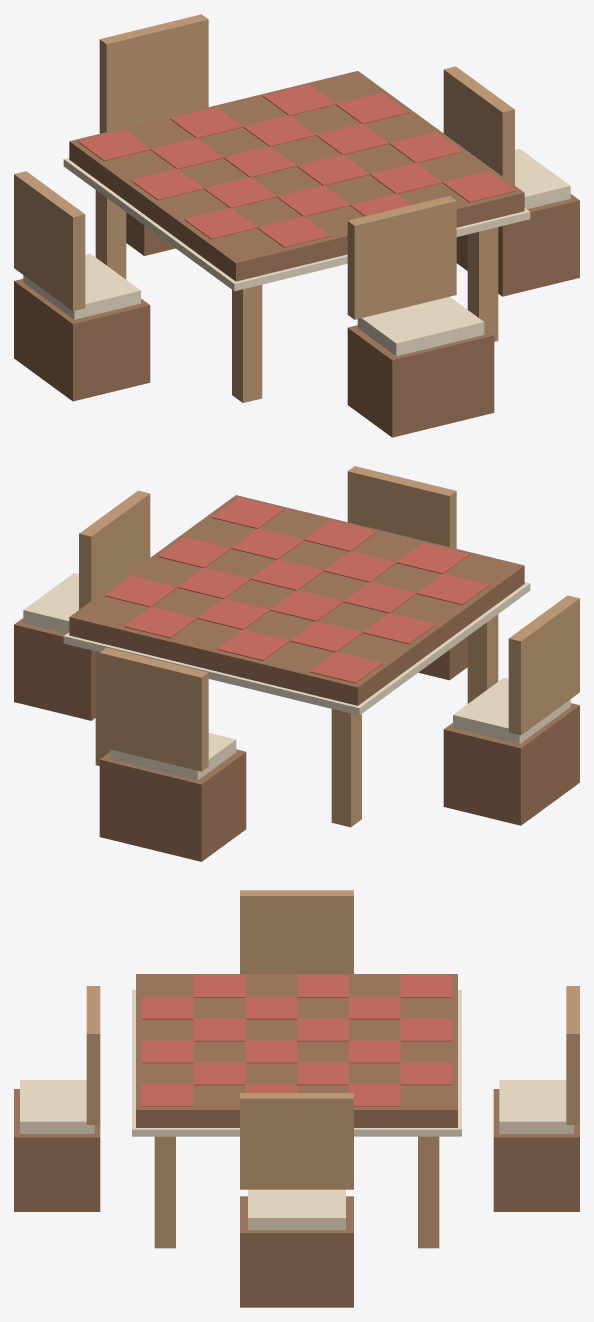
The model's file is dining-set-gingham.glb.
The picture shows the model from 3 angles, top to bottom: view 1: azimuth 30°, elevation 25°; view 2: azimuth 150°, elevation 25°; view 3: azimuth 270°, elevation 25°; orthographic projection. The views are drawn at different scales.
Visible parts, largest first — view 1: dining_set_gingham; view 2: dining_set_gingham; view 3: dining_set_gingham.
Part boxes in pixels (left/top/right/bottom): dining_set_gingham: left=14, top=14, right=579, bottom=437; dining_set_gingham: left=14, top=466, right=579, bottom=861; dining_set_gingham: left=14, top=890, right=579, bottom=1307.
Size of the model in its own units: 2.88 by 1 by 2.88.
